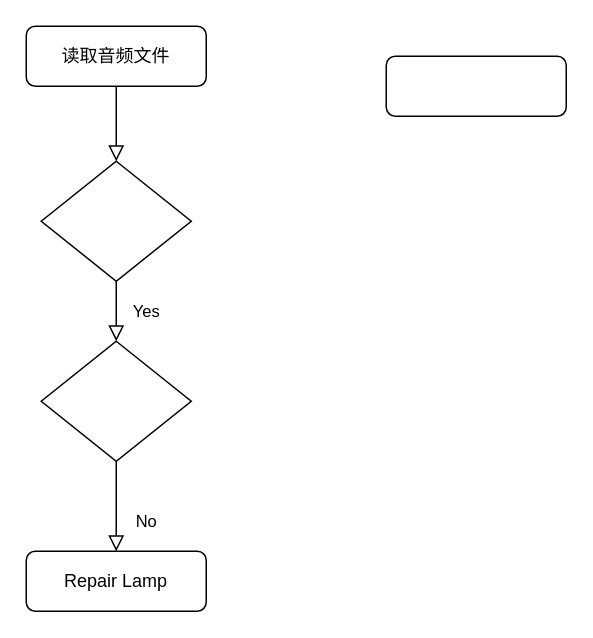
Some shapes in this 593 by 638 pixel diagram are drawn without their labels. Each missing label, with the centre of its shape:
"Bulb burned out?" belongs at point 115,400.
"Lamp plugged in?" belongs at point 115,220.
